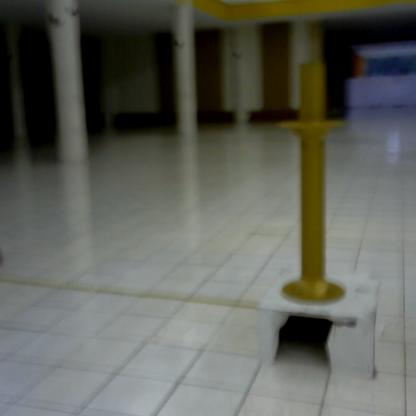pole: (274, 52, 354, 319)
